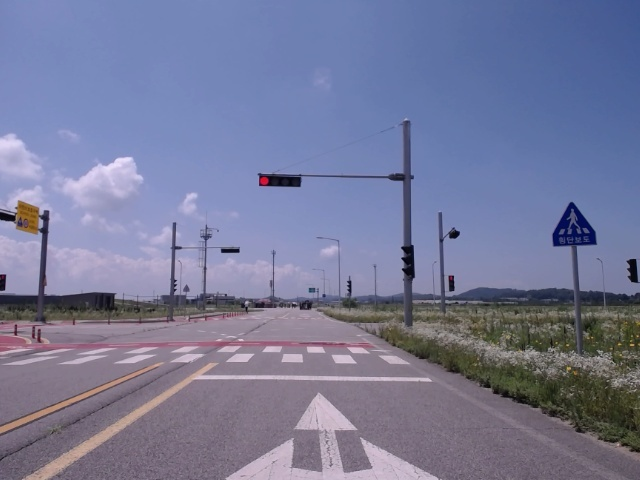red_4: (259, 175, 301, 187)
